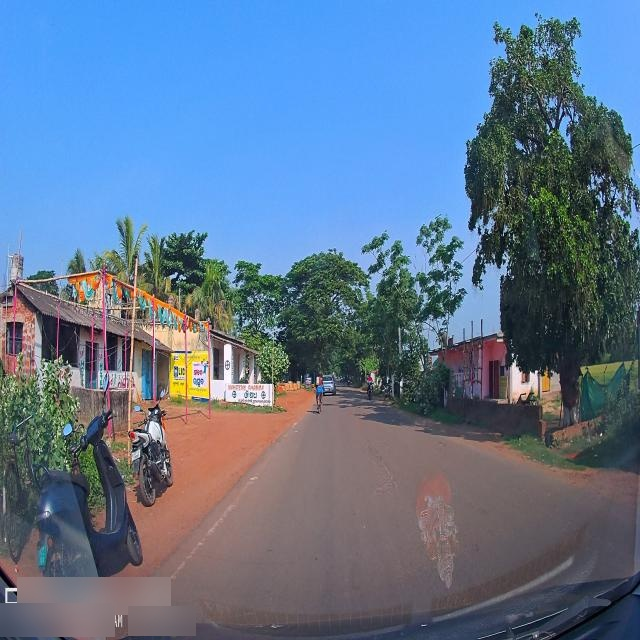pothole: (366, 443, 399, 494), (439, 442, 444, 448)
